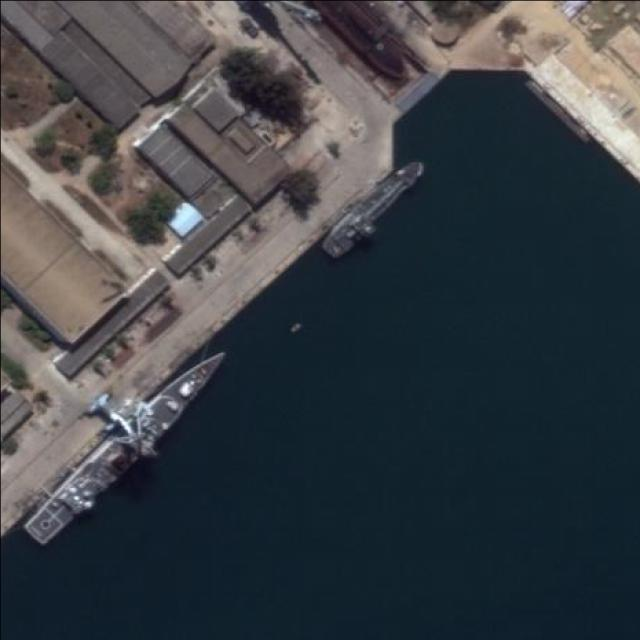Auxiliary Ships: (17, 341, 239, 548)
Landing: (318, 152, 435, 266)
